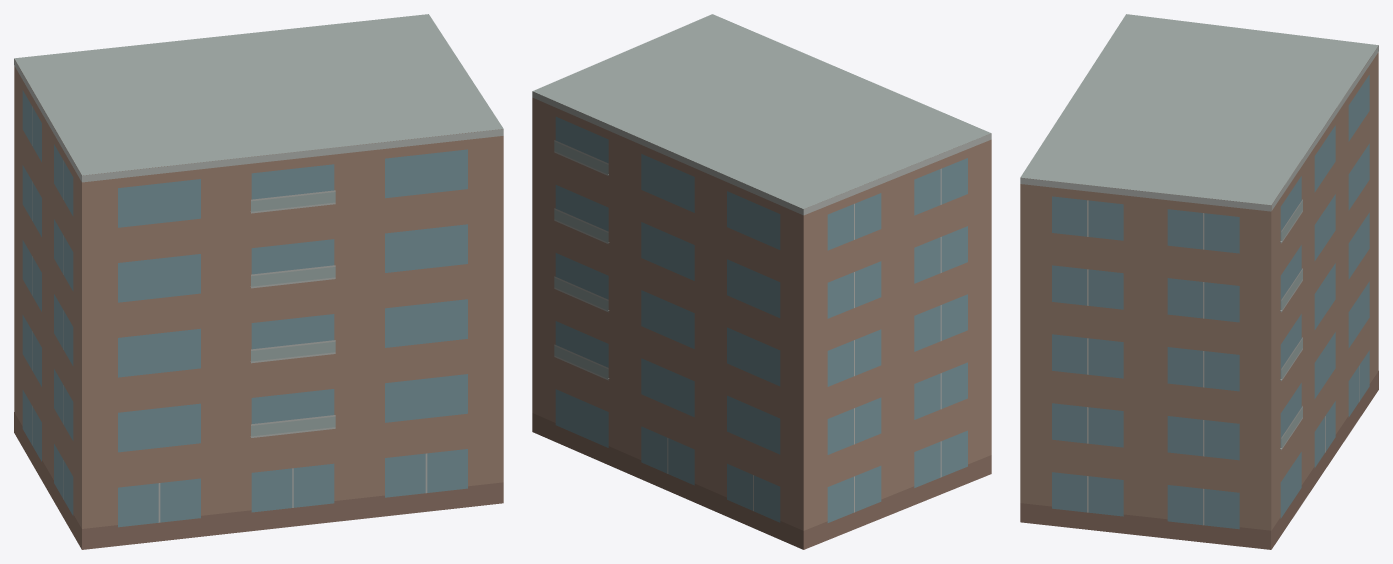
Rendered from survey-upis-32972686.glb.
The picture shows the model from 3 angles, left to right: view 1: azimuth 30°, elevation 25°; view 2: azimuth 150°, elevation 25°; view 3: azimuth 270°, elevation 25°; orthographic projection. The views are drawn at different scales.
Visible parts, largest first — view 1: survey-upis-32972686.tmp; view 2: survey-upis-32972686.tmp; view 3: survey-upis-32972686.tmp.
Boxes of the visible parts, x1,y1,x2,y2 form: survey-upis-32972686.tmp: [14, 14, 503, 549]; survey-upis-32972686.tmp: [532, 14, 991, 549]; survey-upis-32972686.tmp: [1020, 14, 1378, 549].
Bounding box in the file's own units: 15.71 × 13.2 × 12.46.
